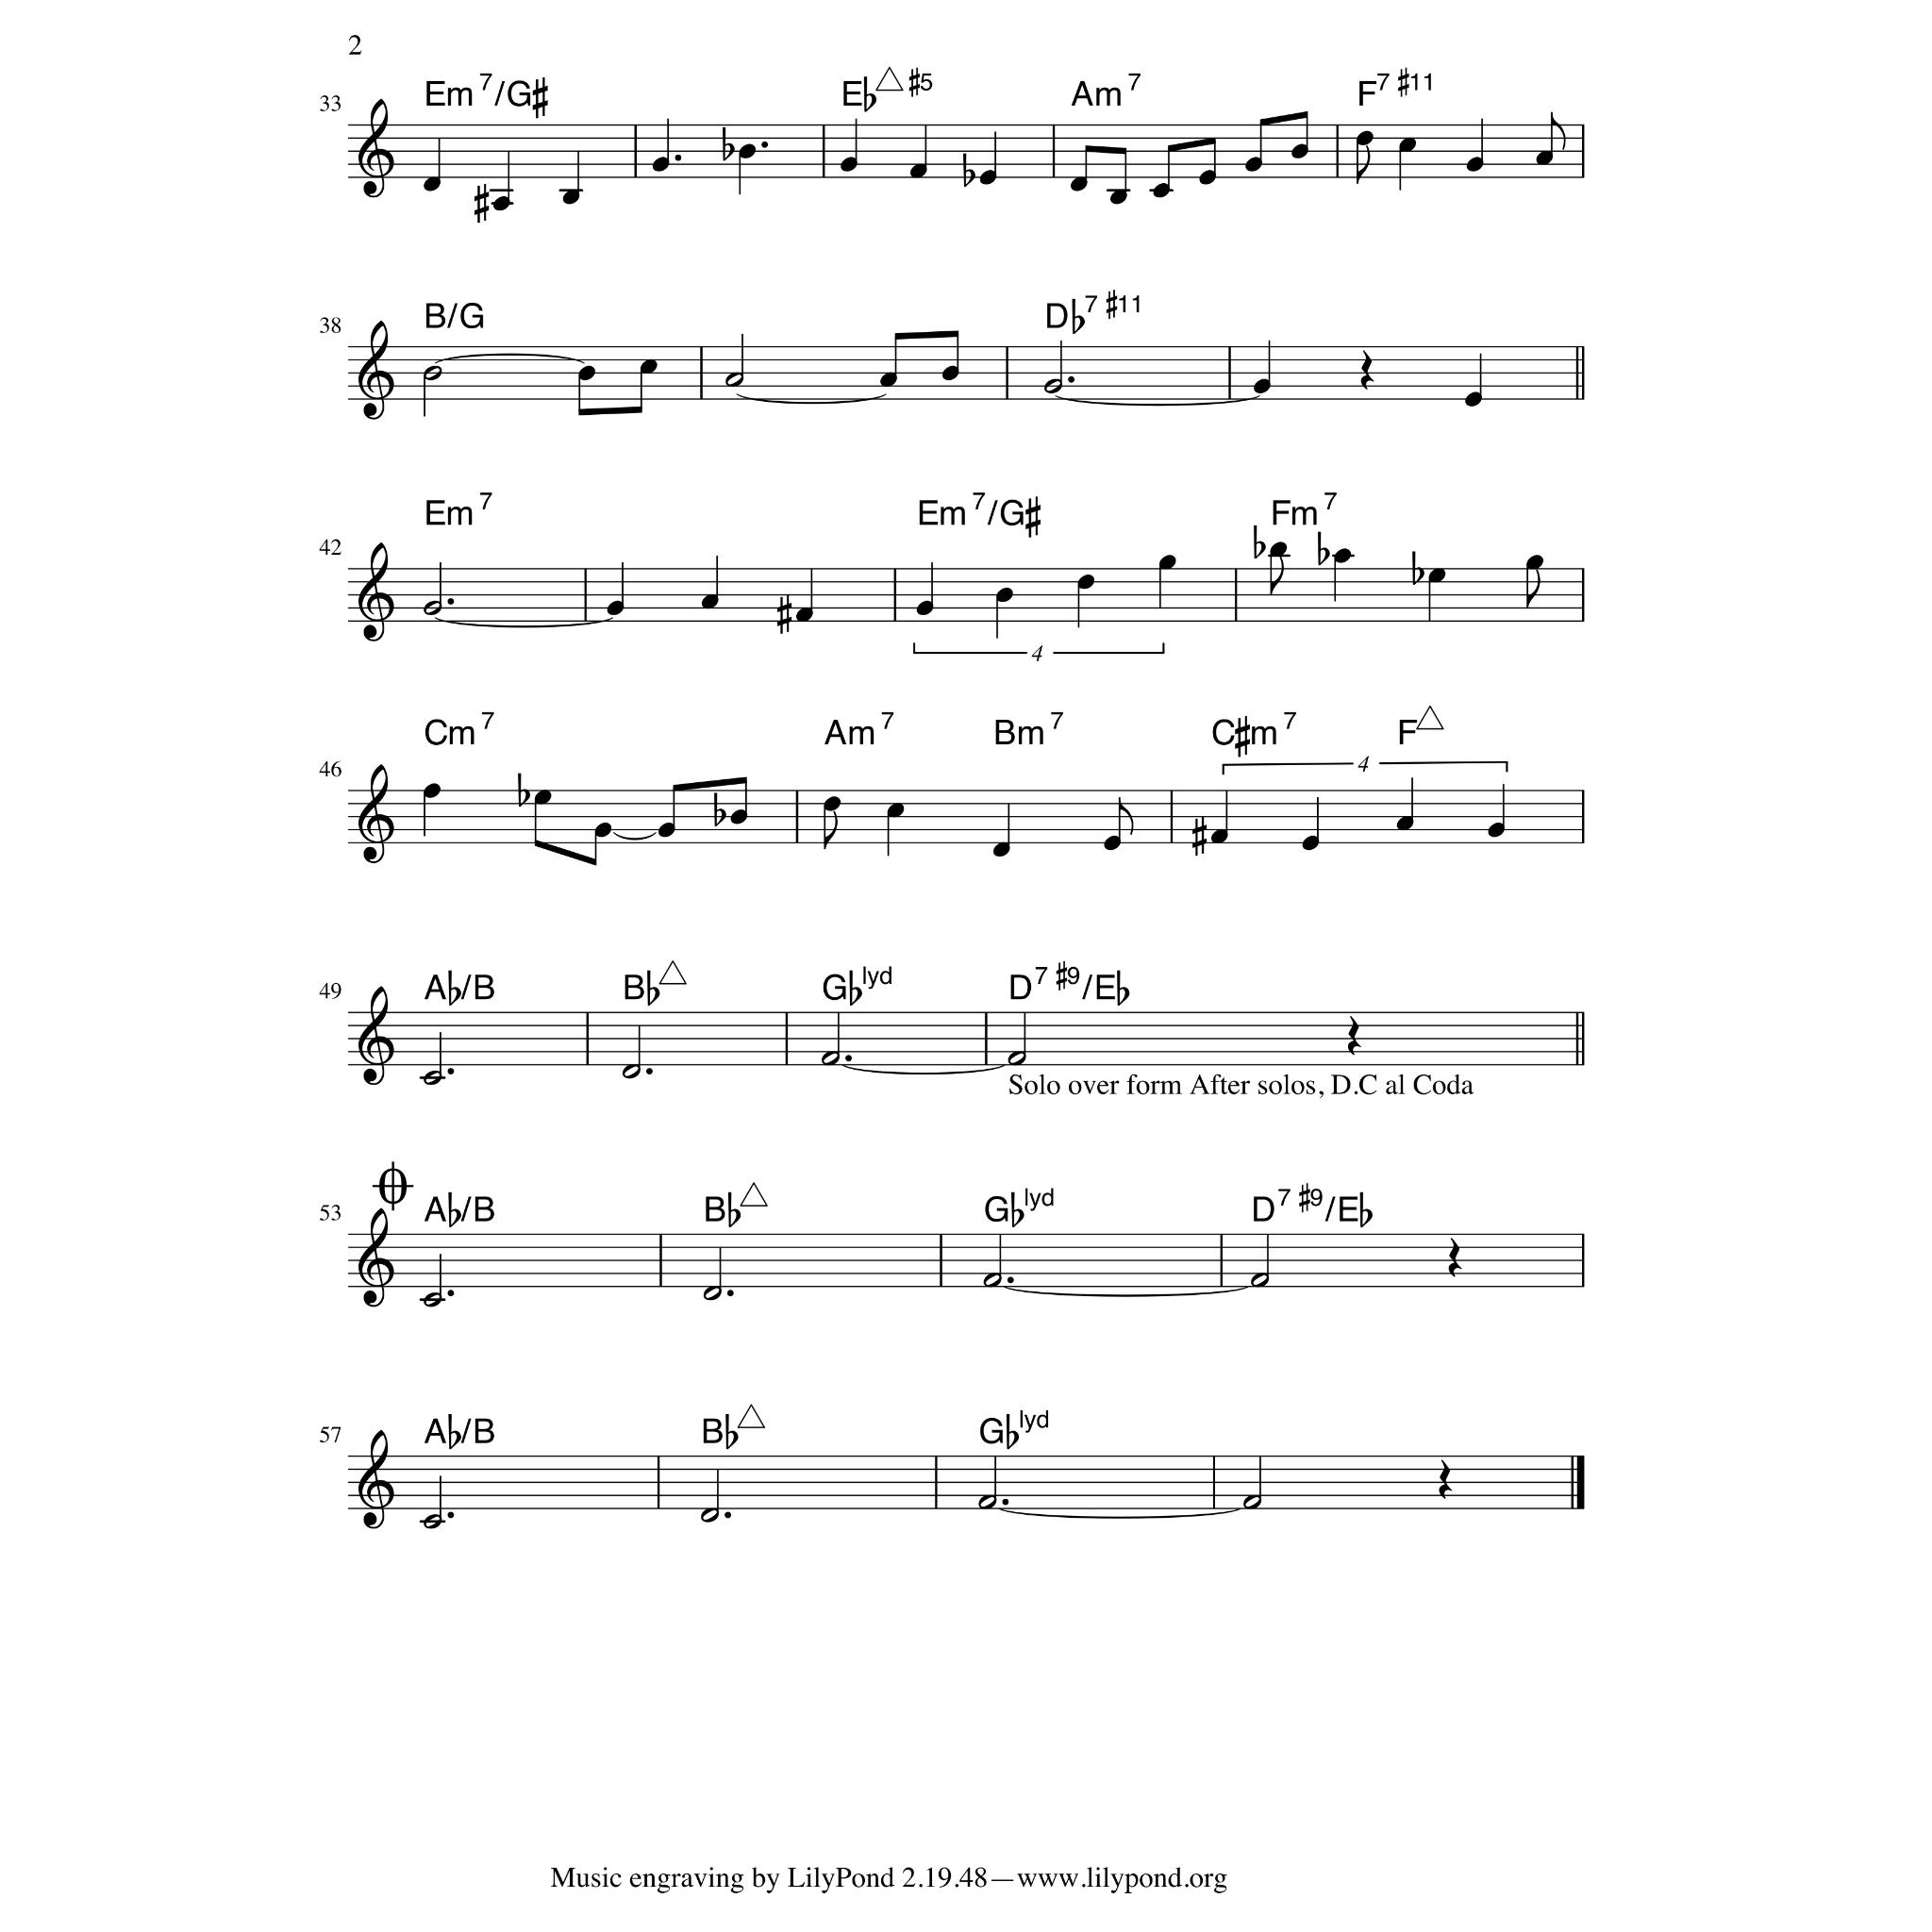flag8thDown: (1270, 556, 1285, 595), (1357, 145, 1370, 185), (1526, 569, 1540, 608), (824, 810, 838, 850)
flag8thUp: (1551, 113, 1566, 151), (1119, 798, 1134, 836)
gClef: (357, 99, 394, 199), (357, 321, 394, 421), (357, 542, 394, 642), (357, 764, 394, 864), (357, 986, 394, 1086), (357, 1207, 394, 1307), (357, 1429, 394, 1529)
noteheadBlack: (534, 789, 551, 806), (1291, 144, 1309, 159), (1070, 176, 1089, 192), (1355, 131, 1374, 146), (1398, 138, 1417, 153), (651, 158, 670, 173), (423, 176, 441, 192), (738, 144, 757, 159), (840, 158, 858, 173), (1253, 379, 1272, 394), (1464, 392, 1483, 408), (577, 366, 596, 381), (879, 373, 898, 388), (1524, 555, 1543, 570), (606, 601, 625, 616), (915, 601, 934, 616), (700, 594, 719, 609), (794, 608, 813, 623), (1209, 829, 1228, 844), (1487, 823, 1506, 838), (423, 783, 441, 798), (657, 823, 675, 838), (823, 796, 841, 811), (1153, 183, 1170, 198), (1198, 171, 1215, 186), (1245, 158, 1262, 173), (1109, 190, 1126, 205), (1536, 151, 1553, 166), (1466, 158, 1483, 173), (562, 190, 579, 205), (492, 196, 509, 211), (909, 163, 926, 178), (979, 171, 996, 186), (640, 359, 657, 375), (941, 366, 958, 381), (1270, 541, 1287, 557), (996, 588, 1013, 603), (1077, 575, 1094, 590), (1158, 555, 1175, 570), (1428, 568, 1445, 583), (1334, 549, 1351, 564), (992, 842, 1009, 858), (887, 803, 904, 818), (1104, 836, 1121, 851), (1302, 836, 1319, 851), (1396, 816, 1413, 831), (594, 823, 611, 838), (730, 809, 747, 824)
noteheadHalf: (1241, 1495, 1262, 1510), (1043, 379, 1062, 394), (424, 366, 442, 381), (724, 373, 743, 388), (424, 601, 442, 616), (1008, 1051, 1026, 1066), (424, 1071, 442, 1086), (821, 1051, 840, 1066), (622, 1064, 641, 1079), (1250, 1273, 1269, 1288), (424, 1292, 442, 1307), (983, 1273, 1002, 1288), (703, 1286, 722, 1301), (424, 1514, 442, 1529), (977, 1495, 996, 1510), (700, 1507, 719, 1523)
restQuarter: (1438, 1458, 1453, 1500), (1447, 1238, 1462, 1277), (1347, 1015, 1360, 1057), (1360, 351, 1374, 391)
